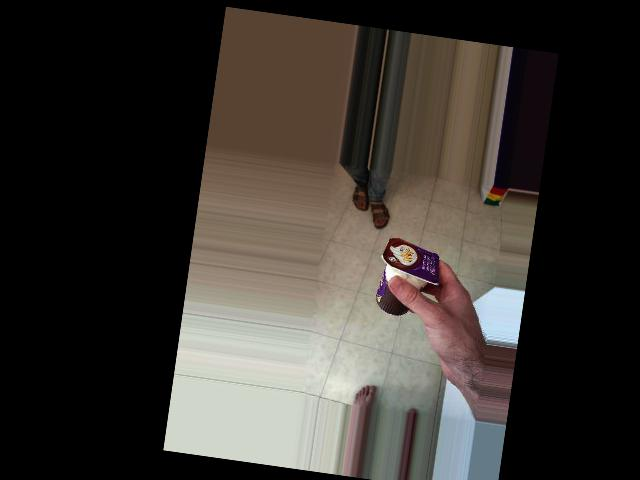milky: (350, 226, 433, 303)
